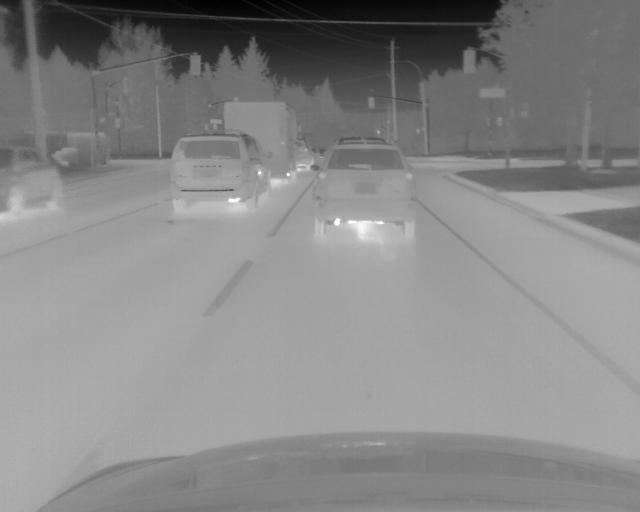car: (311, 136, 417, 240), (170, 130, 273, 215), (223, 101, 298, 183), (1, 144, 63, 211), (295, 137, 316, 174)
